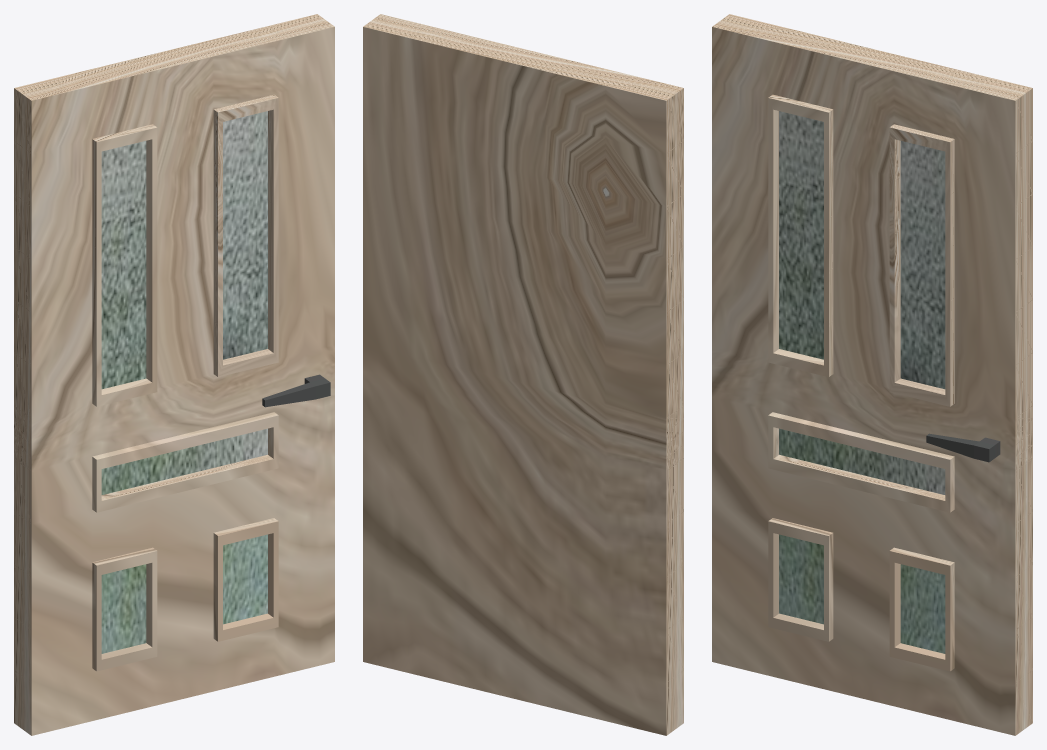
Rendered from Puerta_35.fbx.
The picture shows the model from 3 angles, left to right: view 1: azimuth 30°, elevation 25°; view 2: azimuth 150°, elevation 25°; view 3: azimuth 330°, elevation 25°; orthographic projection.
Visible parts, largest first — view 1: Cube.029; view 2: Cube.029; view 3: Cube.029.
Boxes of the visible parts, x1=… form: Cube.029: x1=14, y1=14, x2=334, y2=735; Cube.029: x1=363, y1=14, x2=683, y2=735; Cube.029: x1=712, y1=14, x2=1032, y2=735.
Bounding box in the file's own units: 200 × 400 × 32.54.
